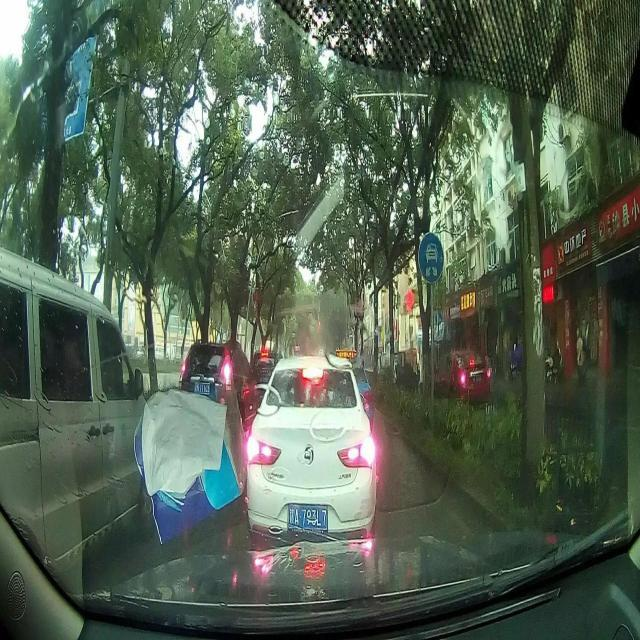car: (0, 246, 157, 582), (247, 354, 376, 542), (178, 338, 258, 440), (332, 346, 376, 429), (256, 352, 285, 402)
